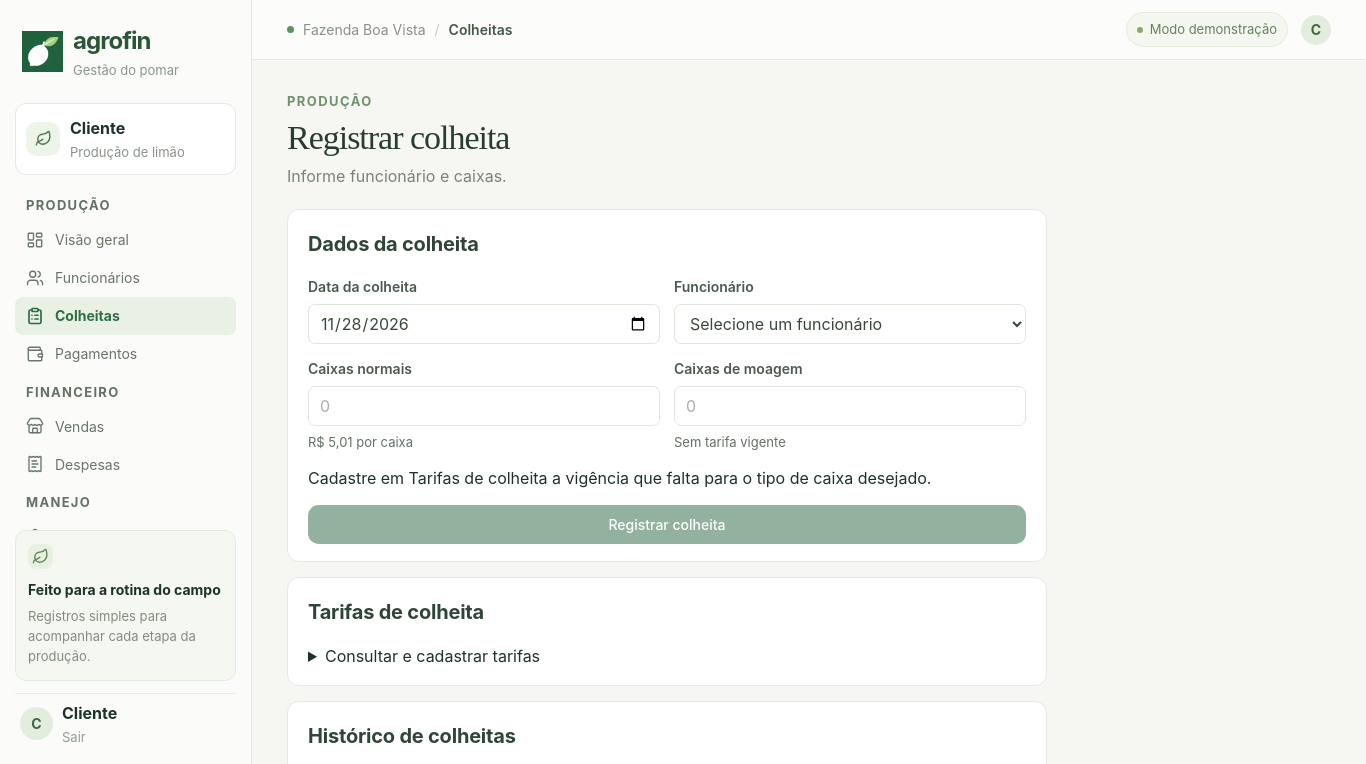
Tarifas e colheitas › envia uma vez com o ID escolhido e exibe a tarifa aplicada pelo servidor
Select "Maria Silva" in the dropdown labelled "Funcionário" at (850, 324), box [674,304,1026,344]
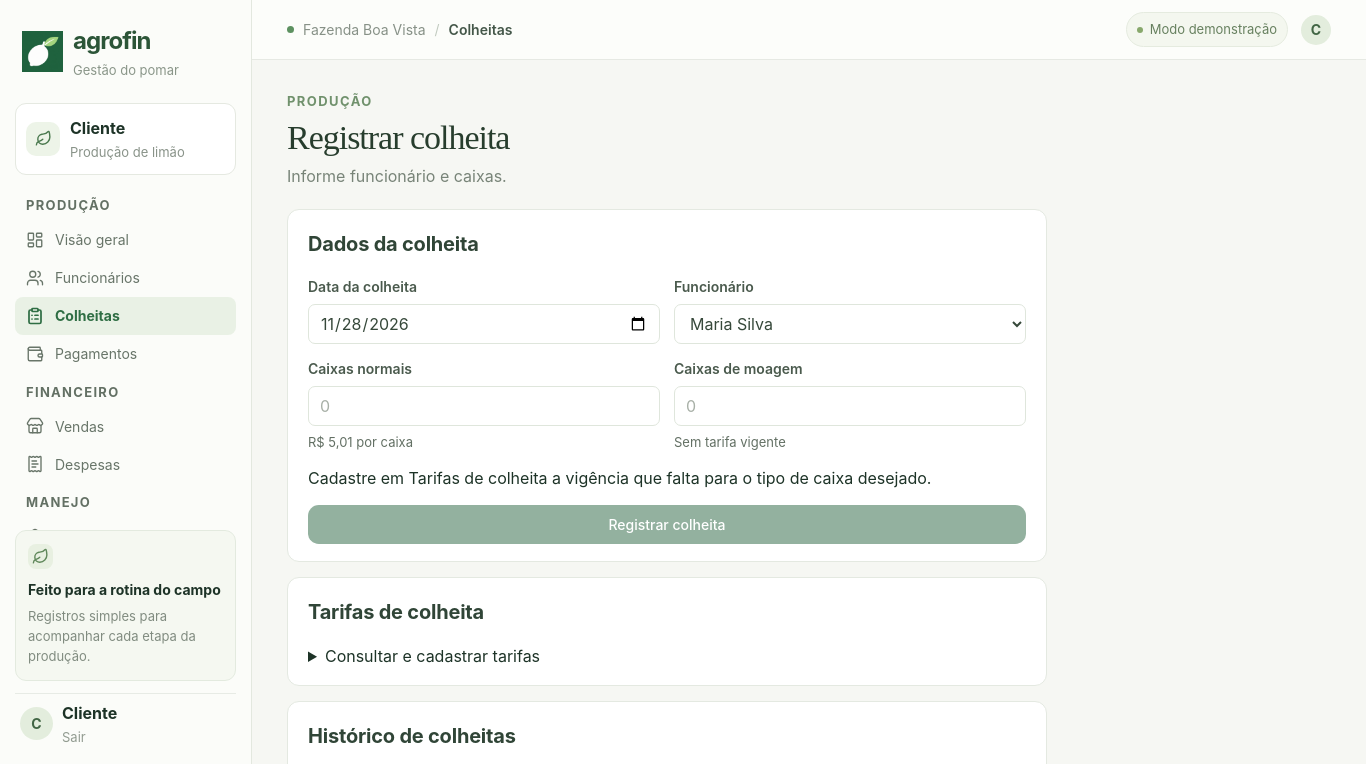
Type "2" into the number field labelled "Caixas normais R$ 5,01 por caixa".
click(484, 406); type("2")  # box [308,386,660,426]
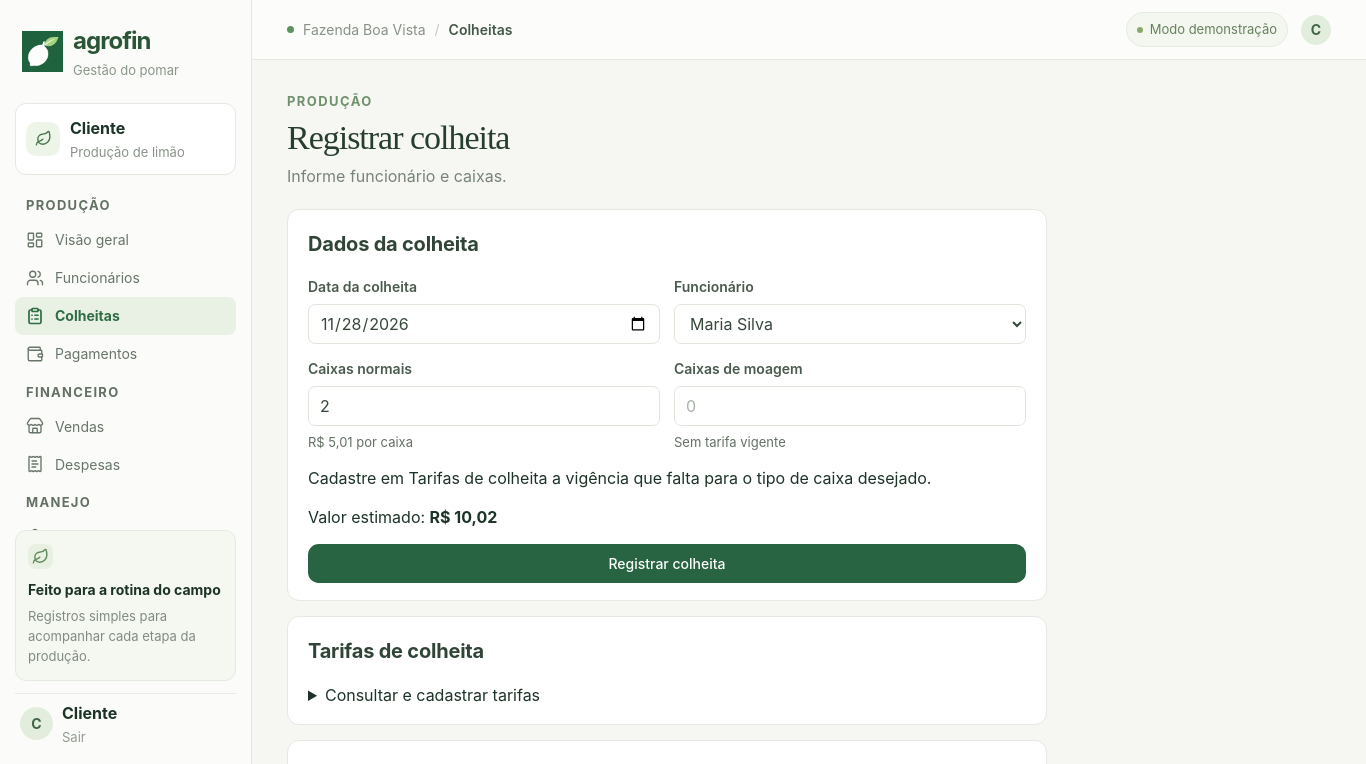
Submit the form named "Registrar colheita", box [308,276,1026,583]
Submit the form named "Registrar colheita", box [308,276,1026,583]
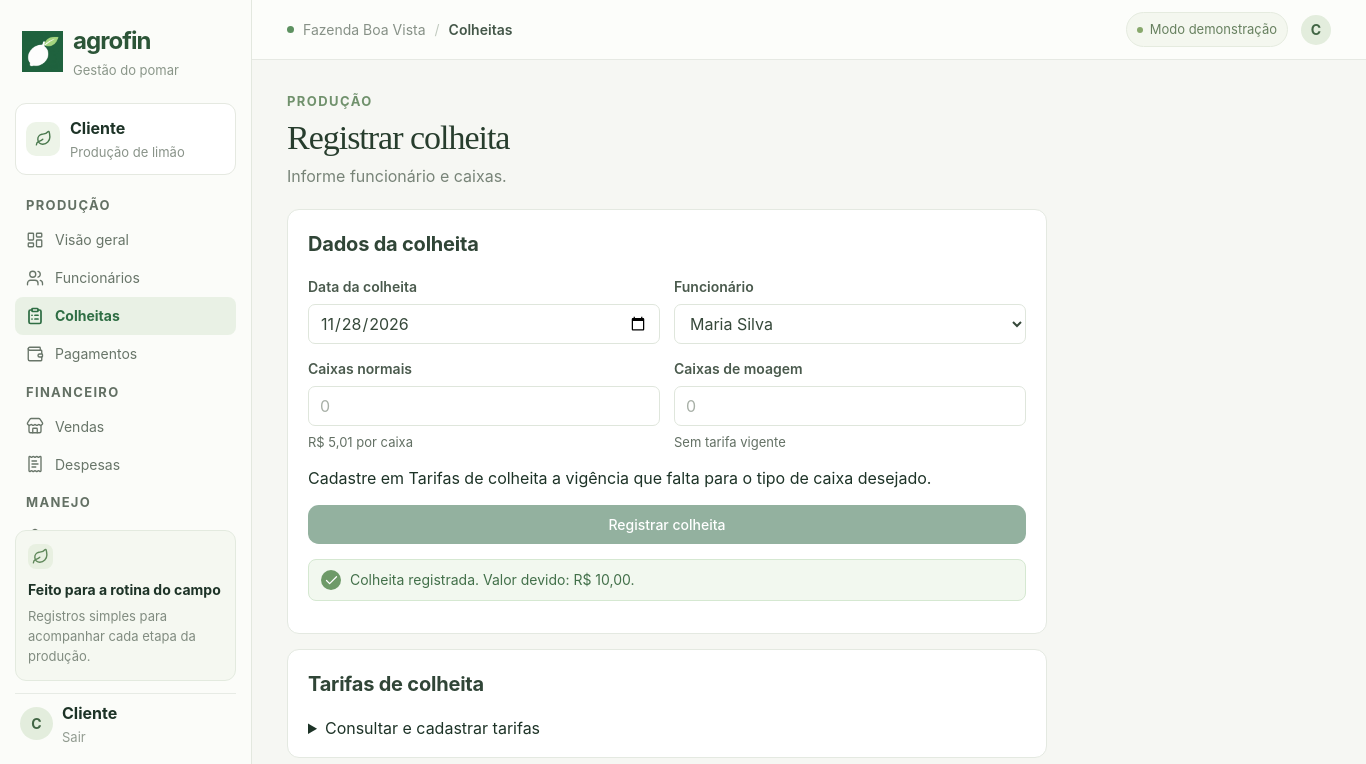
Expected: the button "Registrar colheita" is disabled, [308,505,1026,544]
Expected: the text "Colheita registrada. Valor devido: R$ 10,00." is shown, [308,559,1026,601]
Expected: the number field labelled "Caixas normais R$ 5,01 por caixa" is not empty, [308,386,660,426]
